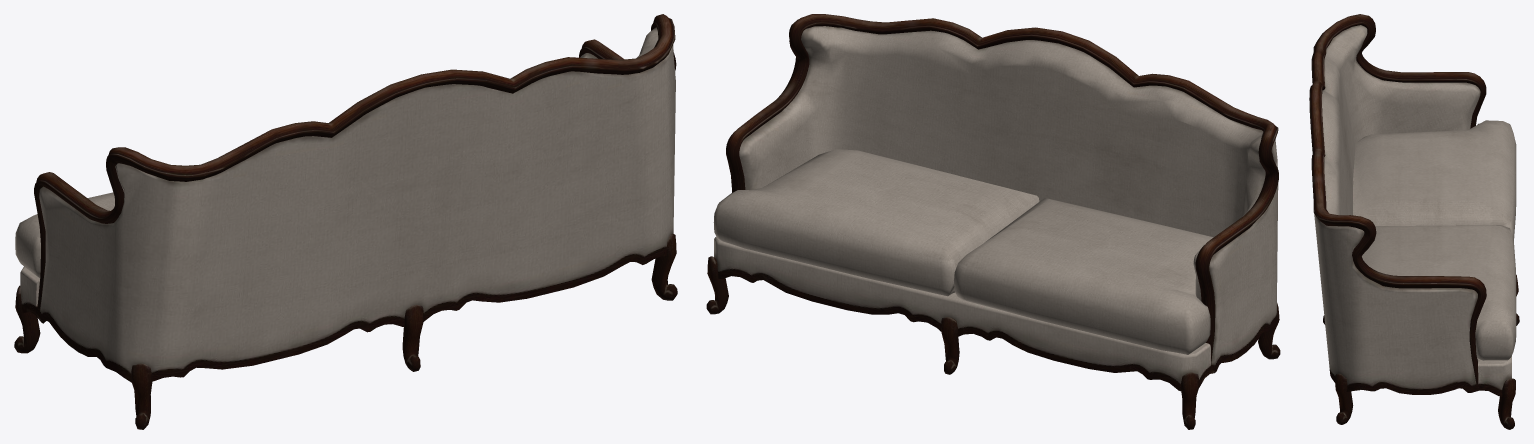
3 views of the same model, side by side, from view 1: azimuth 30°, elevation 25°; view 2: azimuth 150°, elevation 25°; view 3: azimuth 270°, elevation 25° (orthographic). The views are drawn at different scales.
Visible parts, largest first — view 1: Sofa_01; view 2: Sofa_01; view 3: Sofa_01.
Part boxes in pixels (<box>): Sofa_01: <box>14,14,677,429</box>; Sofa_01: <box>706,14,1280,429</box>; Sofa_01: <box>1309,14,1519,429</box>.
Bounding box in the file's own units: 180 × 91.23 × 75.37.
1 material, 1 textured.
